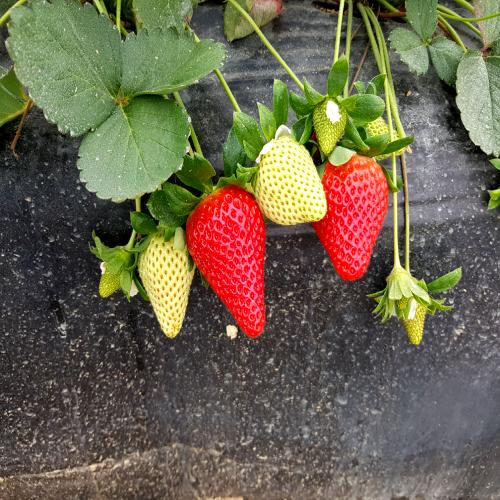ripe: (186, 188, 270, 353), (321, 145, 390, 298)
